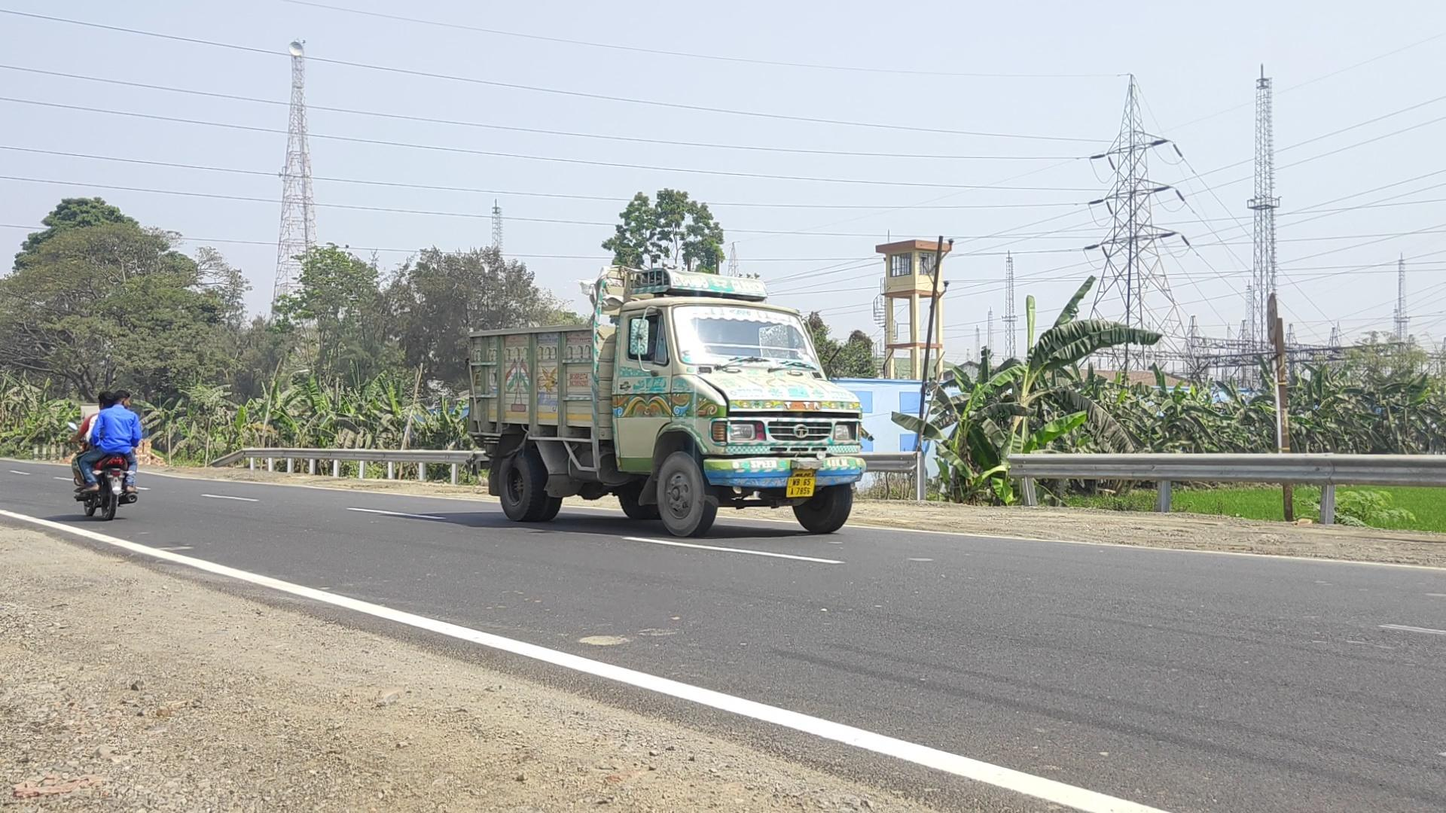bike: (68, 389, 142, 520)
truck: (466, 264, 866, 537)
